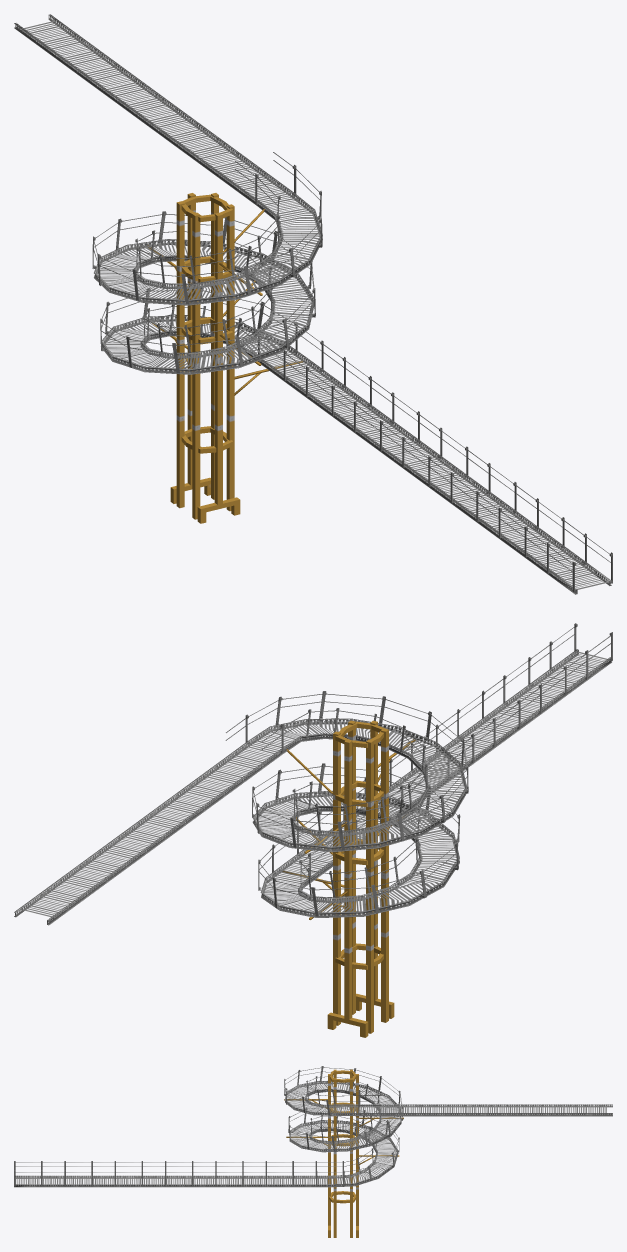
File: textura CINTA.glb
3 renders of one model, top to bottom at view 1: azimuth 30°, elevation 25°; view 2: azimuth 150°, elevation 25°; view 3: azimuth 270°, elevation 25°, orthographic. The views are drawn at different scales.
Parts seen in each view (by area): view 1: Plane.001, CINTA.001, soportes 2, baranda 2, baranda 1, soportes 3, soportes; view 2: Plane.001, CINTA.001, soportes 2, baranda 2, baranda 1, soportes 3, soportes; view 3: Plane.001, CINTA.001, baranda 2, baranda 1, soportes 2, soportes 3, soportes.
Part boxes in pixels (bbox=[...]): Plane.001: bbox=[20, 21, 608, 589]; CINTA.001: bbox=[14, 14, 611, 594]; soportes 2: bbox=[170, 193, 240, 523]; baranda 2: bbox=[92, 152, 612, 583]; baranda 1: bbox=[134, 161, 576, 592]; soportes 3: bbox=[181, 194, 232, 453]; soportes: bbox=[147, 209, 302, 395]; Plane.001: bbox=[22, 651, 610, 917]; CINTA.001: bbox=[14, 649, 611, 925]; soportes 2: bbox=[327, 720, 394, 1037]; baranda 2: bbox=[225, 623, 578, 916]; baranda 1: bbox=[261, 632, 612, 901]; soportes 3: bbox=[335, 721, 385, 969]; soportes: bbox=[282, 739, 415, 919]; Plane.001: bbox=[15, 1081, 606, 1185]; CINTA.001: bbox=[14, 1081, 612, 1187]; baranda 2: bbox=[14, 1066, 403, 1186]; baranda 1: bbox=[14, 1076, 381, 1177]; soportes 2: bbox=[328, 1069, 358, 1237]; soportes 3: bbox=[329, 1070, 356, 1203]; soportes: bbox=[284, 1099, 403, 1188].
Size of the model in its own units: 4.87 by 7.06 by 23.99.
1 material, 1 textured.
